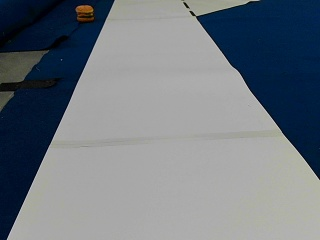burger: (75, 3, 95, 22)
